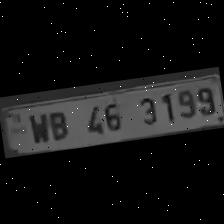1: (154, 88, 176, 123)
3: (132, 91, 160, 127)
4: (76, 100, 106, 138)
6: (100, 97, 126, 133)
9: (172, 84, 197, 120), (192, 82, 218, 116)
B: (44, 106, 72, 142)
W: (22, 108, 50, 145)
